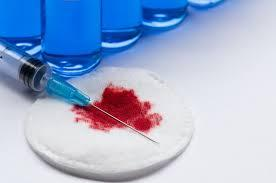Iv_Bottle: (41, 0, 100, 77), (0, 0, 40, 54), (102, 0, 141, 51), (142, 0, 188, 28), (188, 0, 224, 8)
Syringe: (0, 40, 156, 142), (0, 40, 89, 105)
cotton: (25, 68, 192, 180), (72, 84, 161, 132)
